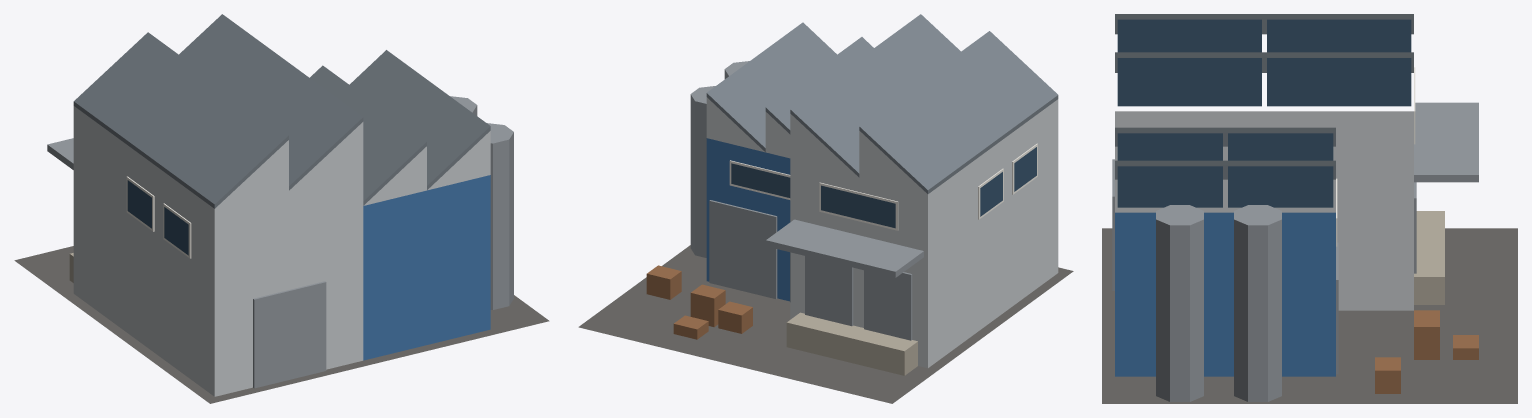
3 renders of one model, left to right at view 1: azimuth 30°, elevation 25°; view 2: azimuth 150°, elevation 25°; view 3: azimuth 270°, elevation 25°, orthographic. The views are drawn at different scales.
Visible parts, largest first — view 1: shed (×2), roof (×4), roof_end (×4), garage_door, yard, silo, window_glass (×2), canopy; view 2: shed (×2), roof (×4), yard, garage_door (×3), roof_end (×4), dock, canopy, window_glass (×4), pallets (×4), silo, window_frame; view 3: shed (×2), window_band (×8), yard, silo (×2), roof (×4), canopy, pallets (×3), dock, garage_door (×2).
Boxes of the visible parts, box(x1,y1,x2,y2) form: shed (×2): box(73, 106, 490, 396); roof (×4): box(73, 14, 490, 208); roof_end (×4): box(215, 122, 490, 208); garage_door: box(253, 281, 326, 388); yard: box(14, 246, 549, 403); silo: box(487, 123, 513, 309); window_glass (×2): box(127, 180, 188, 255); canopy: box(47, 138, 73, 169); shed (×2): box(706, 99, 1058, 368); roof (×4): box(706, 14, 1058, 193); yard: box(578, 245, 1073, 403); garage_door (×3): box(709, 200, 912, 340); roof_end (×4): box(706, 97, 927, 194); dock: box(786, 312, 917, 375); canopy: box(766, 219, 923, 277); window_glass (×4): box(731, 147, 1036, 228); pallets (×4): box(646, 265, 752, 339); silo: box(690, 86, 715, 257); window_frame: box(819, 182, 898, 230); shed (×2): box(1115, 111, 1413, 376); window_band (×8): box(1117, 19, 1411, 207); yard: box(1102, 228, 1517, 403); silo (×2): box(1156, 205, 1281, 401); roof (×4): box(1115, 14, 1413, 179); canopy: box(1414, 102, 1478, 182); pallets (×3): box(1375, 314, 1478, 393); dock: box(1414, 211, 1444, 304); garage_door (×2): box(1112, 159, 1338, 374).
Bounding box in the file's own units: 16 × 11 × 16.
